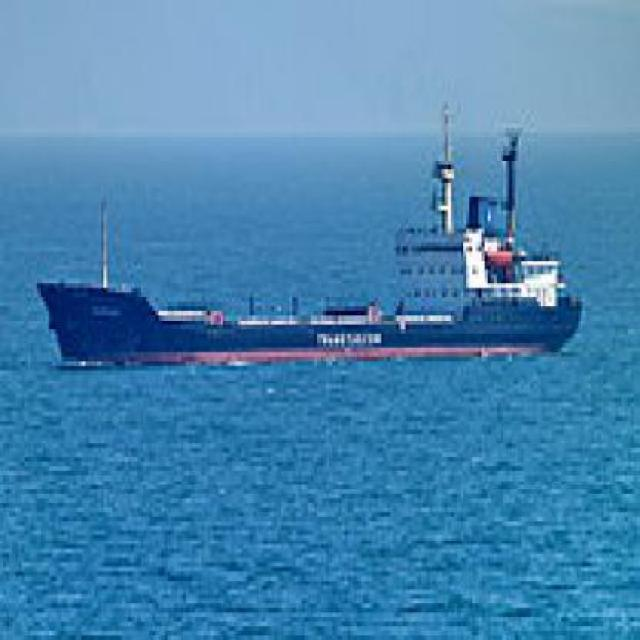container: (28, 97, 589, 385)
